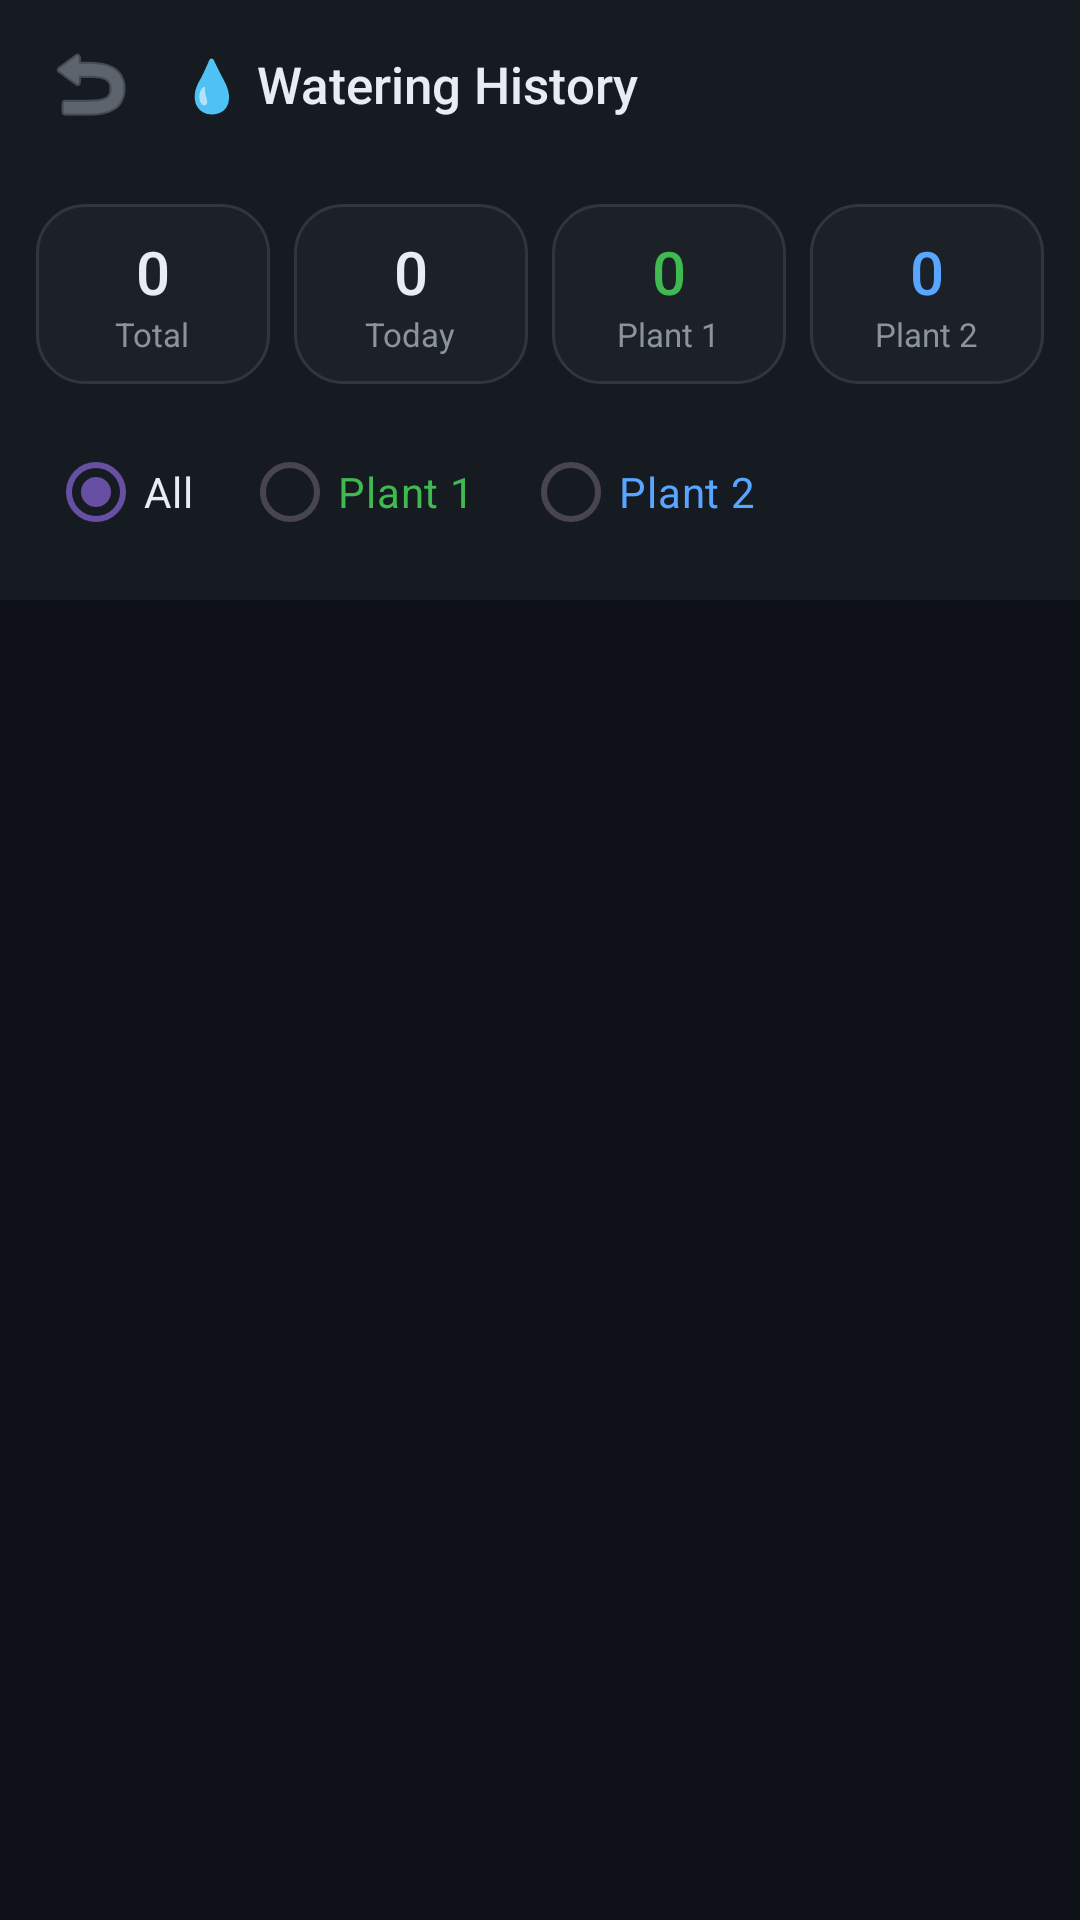

Icons on this 1080 × 1920 Android screen, each with its box as (x1, y1, x2, y2):
Back: (57, 54, 126, 116)
